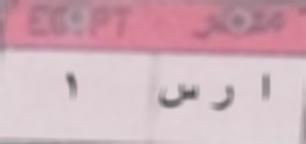1: (60, 67, 87, 105)
alif: (254, 70, 276, 112)
raa: (205, 79, 239, 122)
seen: (157, 80, 201, 110)
